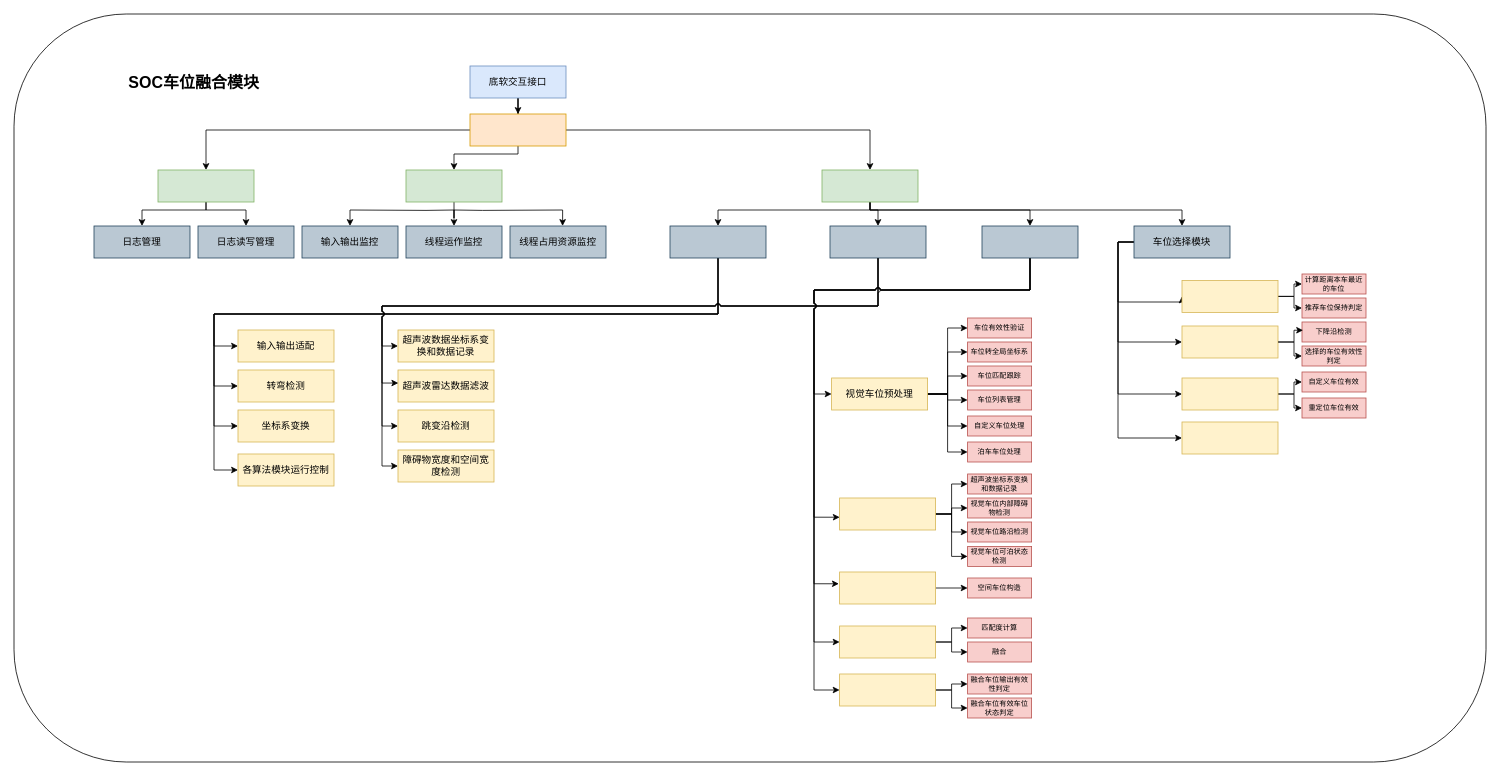
The diagram is 1500 pixels wide and 776 high, and some of its shapes have lost their labels. The shapes that lost their labels are listed below. From the top down, each one's centre as x and y in pixels, then its label:
At point 517,129: "FusAPP应用".
At point 205,185: "日志".
At point 453,185: "系统监控".
At point 869,185: "matlab核心算法模块".
At point 717,241: "系统逻辑控制模块".
At point 877,241: "超声波雷达车位检测模块".
At point 1029,241: "车位融合模块".
At point 1229,296: "推荐车位".
At point 1229,341: "用户选择车位".
At point 1229,393: "特殊车位选择".
At point 1229,437: "选择车位输出".
At point 887,513: "视觉车位与超声波障碍物融合".
At point 887,587: "空间车位预处理".
At point 887,641: "视觉车位与空间车位融合".
At point 887,689: "融合车位列表输出".
